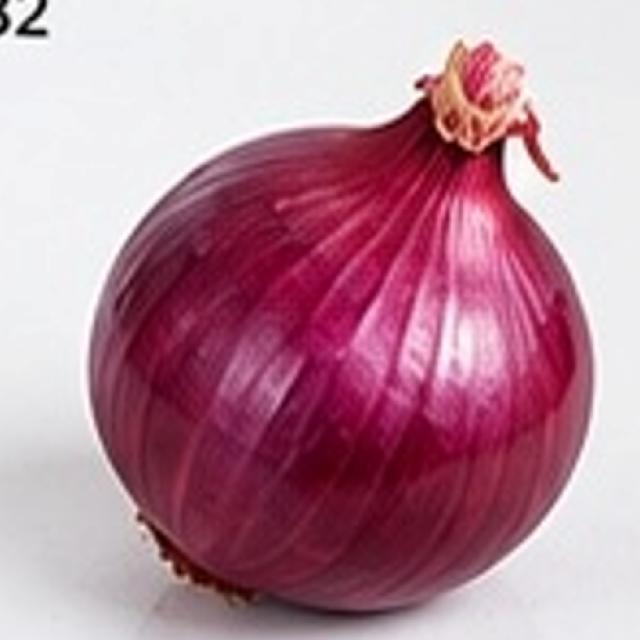healthy: (48, 11, 614, 640), (90, 44, 592, 609)
